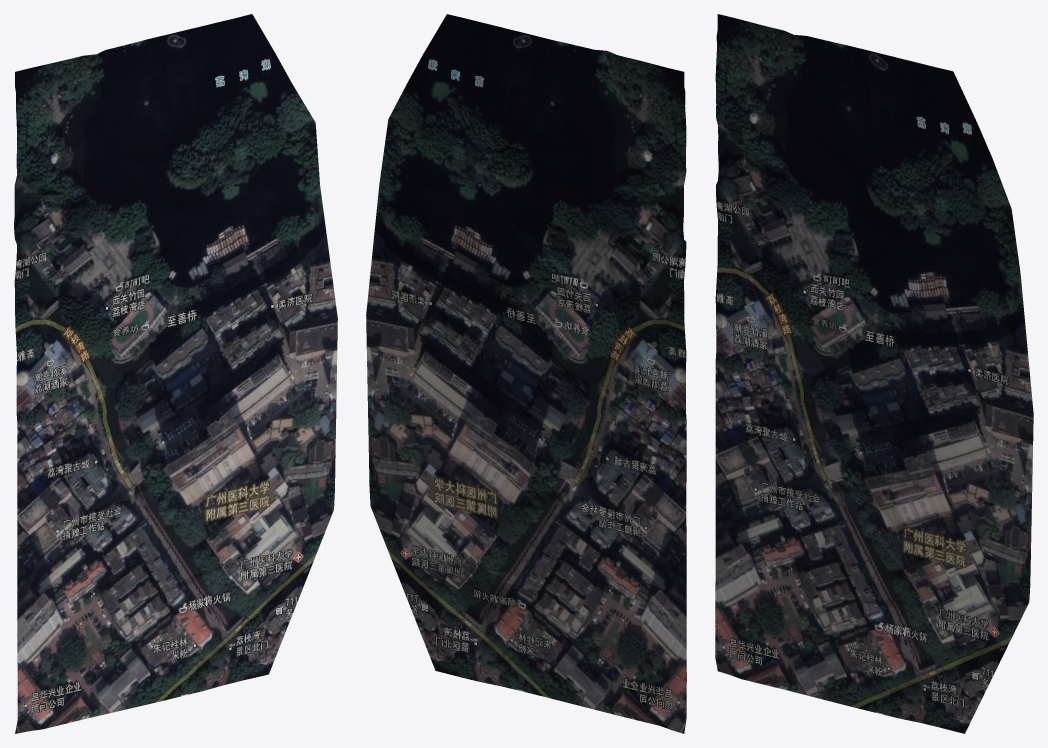
The picture shows the model from 3 angles, left to right: view 1: azimuth 30°, elevation 25°; view 2: azimuth 150°, elevation 25°; view 3: azimuth 330°, elevation 25°; orthographic projection.
Visible parts, largest first — view 1: 0_0_3_3_2_2; view 2: 0_0_3_3_2_2; view 3: 0_0_3_3_2_2.
Part boxes in pixels (x1,y1,x2,y2): 0_0_3_3_2_2: (14, 14, 337, 733); 0_0_3_3_2_2: (366, 14, 686, 733); 0_0_3_3_2_2: (715, 14, 1033, 733).
Bounding box in the file's own units: 246 × 486 × 7.
Materials: 1 (1 with a texture image).
